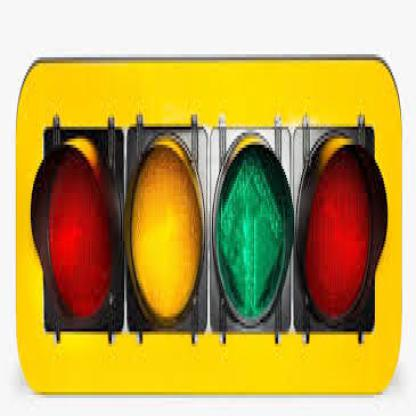traffic-light: (40, 108, 373, 340)
